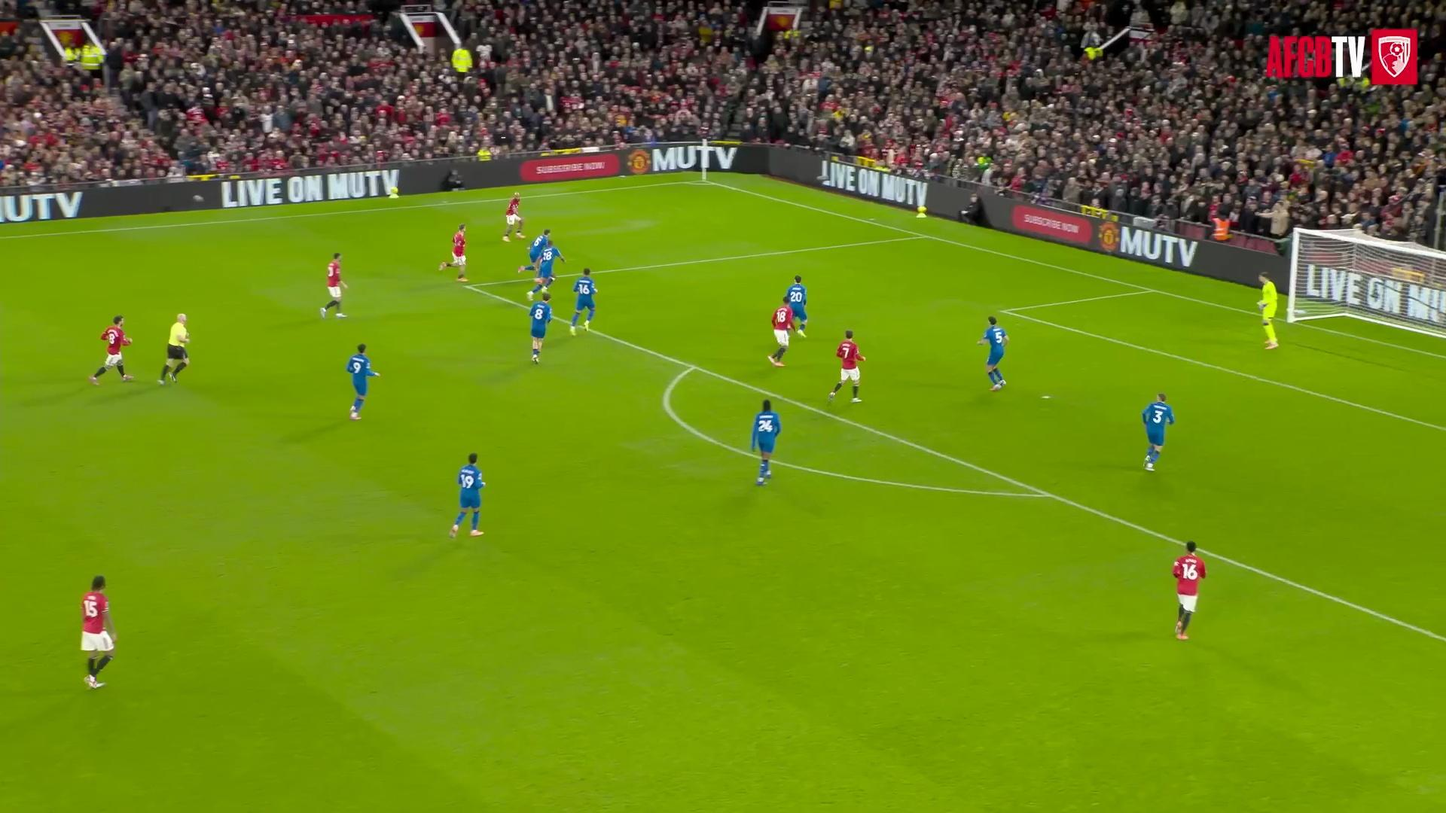player: (81, 575, 117, 688), (1173, 541, 1206, 640), (90, 315, 133, 385), (450, 452, 484, 537), (828, 330, 865, 403), (750, 399, 780, 485), (346, 343, 379, 419), (1142, 394, 1174, 470), (977, 317, 1008, 390), (527, 242, 566, 300), (320, 252, 347, 318), (570, 267, 596, 334), (768, 297, 792, 367), (439, 224, 467, 281), (529, 293, 551, 364), (1258, 273, 1278, 349), (517, 229, 551, 273), (786, 276, 807, 337), (502, 192, 523, 241)
referee: (159, 314, 189, 385)
